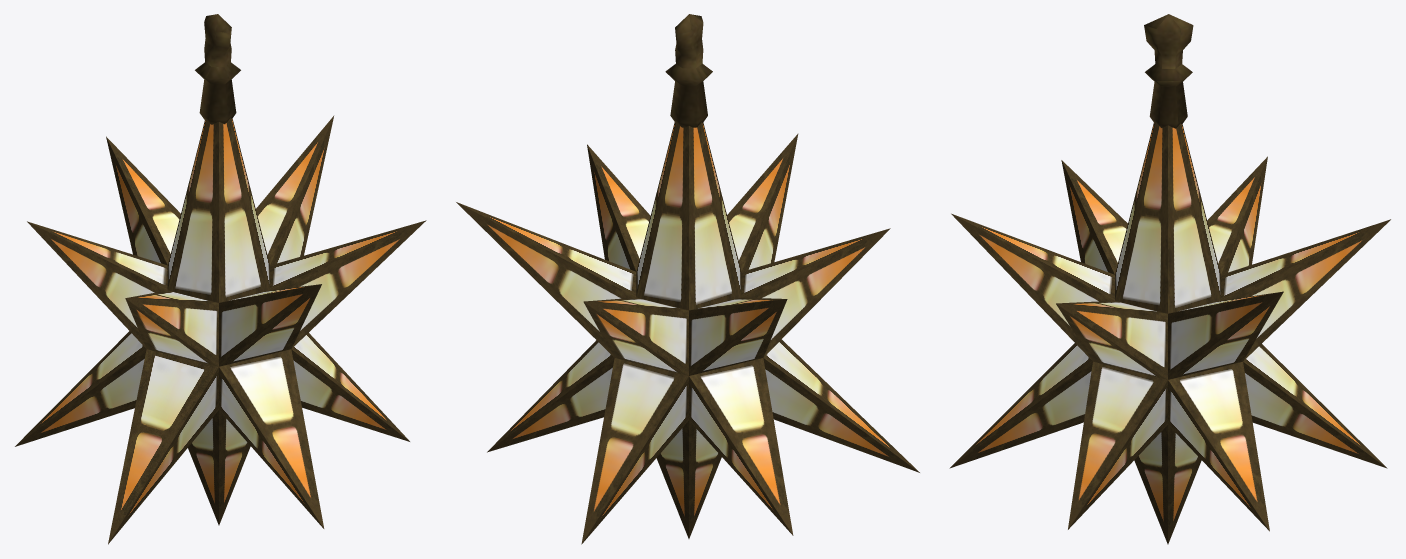
Rendered from Lantern_Star.fbx.
3 renders of one model, left to right at view 1: azimuth 30°, elevation 25°; view 2: azimuth 150°, elevation 25°; view 3: azimuth 270°, elevation 25°, orthographic. The views are drawn at different scales.
Visible parts, largest first — view 1: Sphere; view 2: Sphere; view 3: Sphere.
Part boxes in pixels (x1=…): Sphere: x1=15, y1=14, x2=426, y2=544; Sphere: x1=456, y1=14, x2=919, y2=544; Sphere: x1=949, y1=14, x2=1390, y2=544.
Size of the model in its own units: 140 by 201 by 152.
